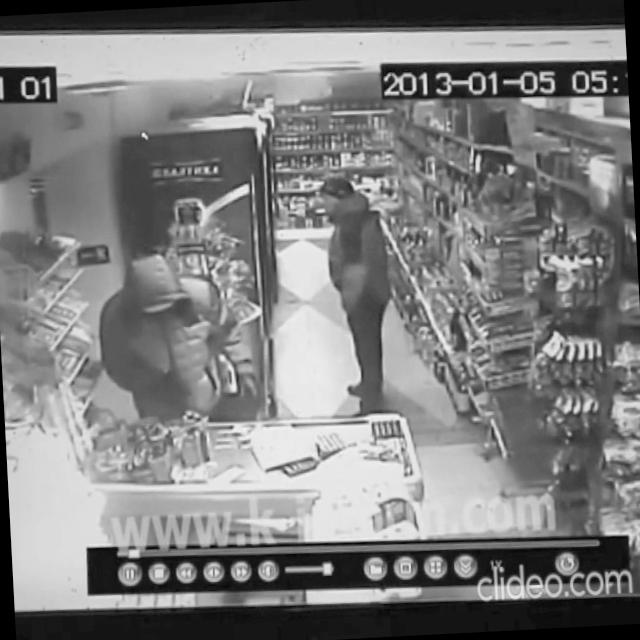gun: (159, 364, 194, 403)
person: (320, 172, 398, 418)
person with a gun: (96, 247, 260, 430)
